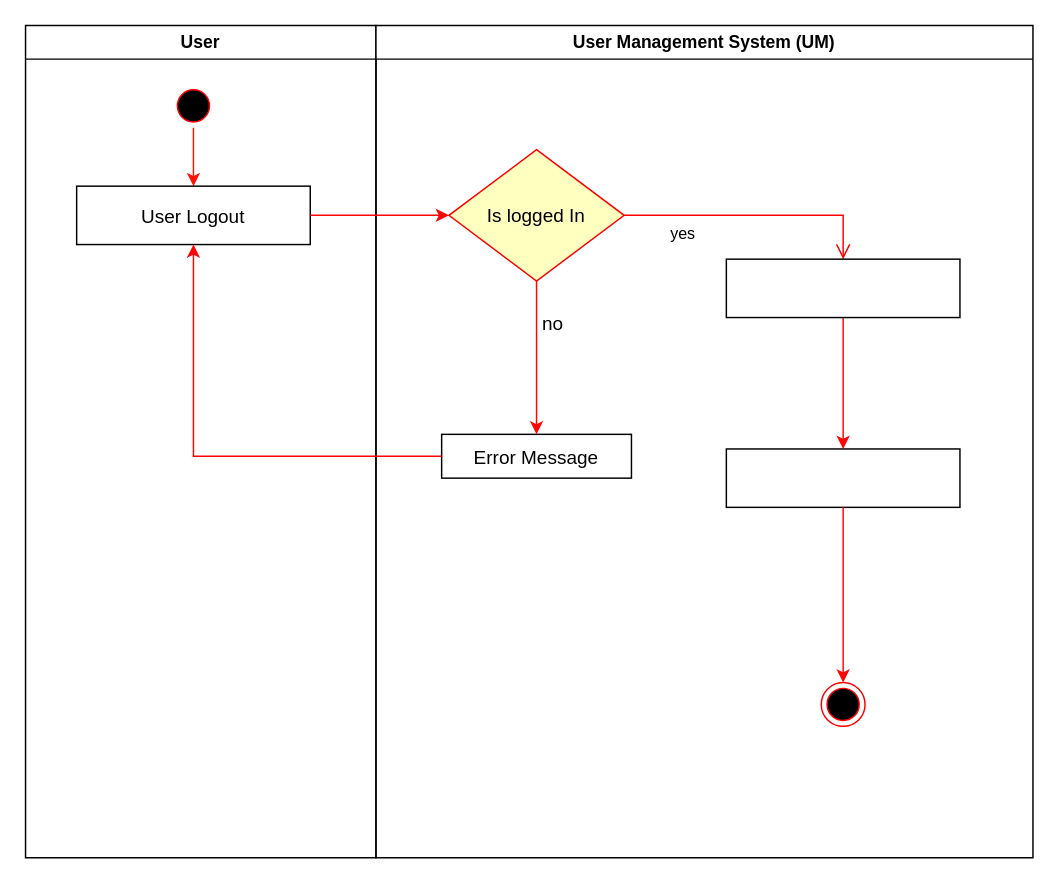
This 1059x883 diagram has some shape labels left out. Each missing label, with the box of its shape:
Logout Successful: (725, 258, 960, 318)
Redirect to Home page: (725, 447, 960, 507)
